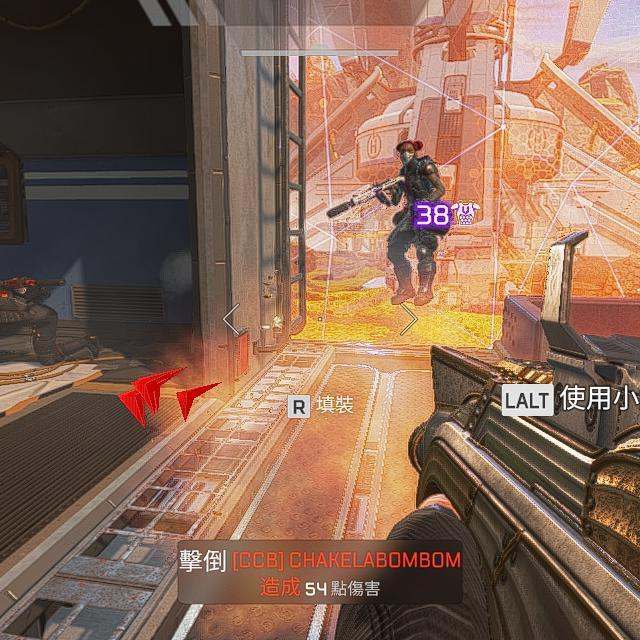avatar: (374, 141, 450, 306)
